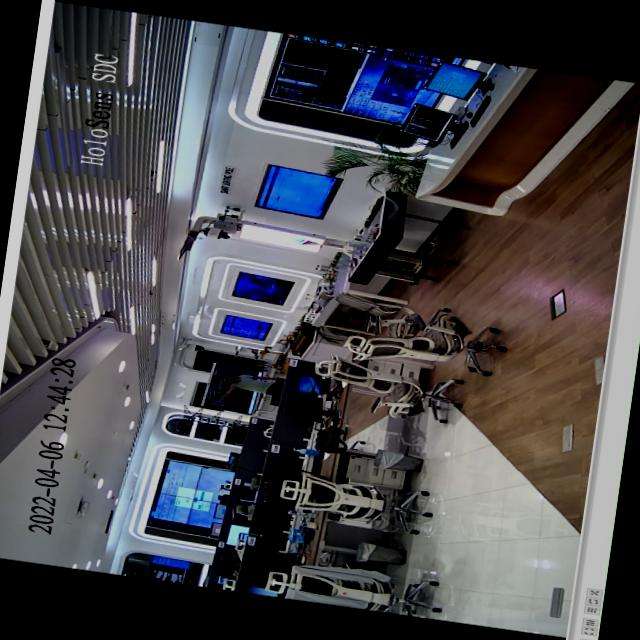long weapon: (198, 384, 245, 416)
